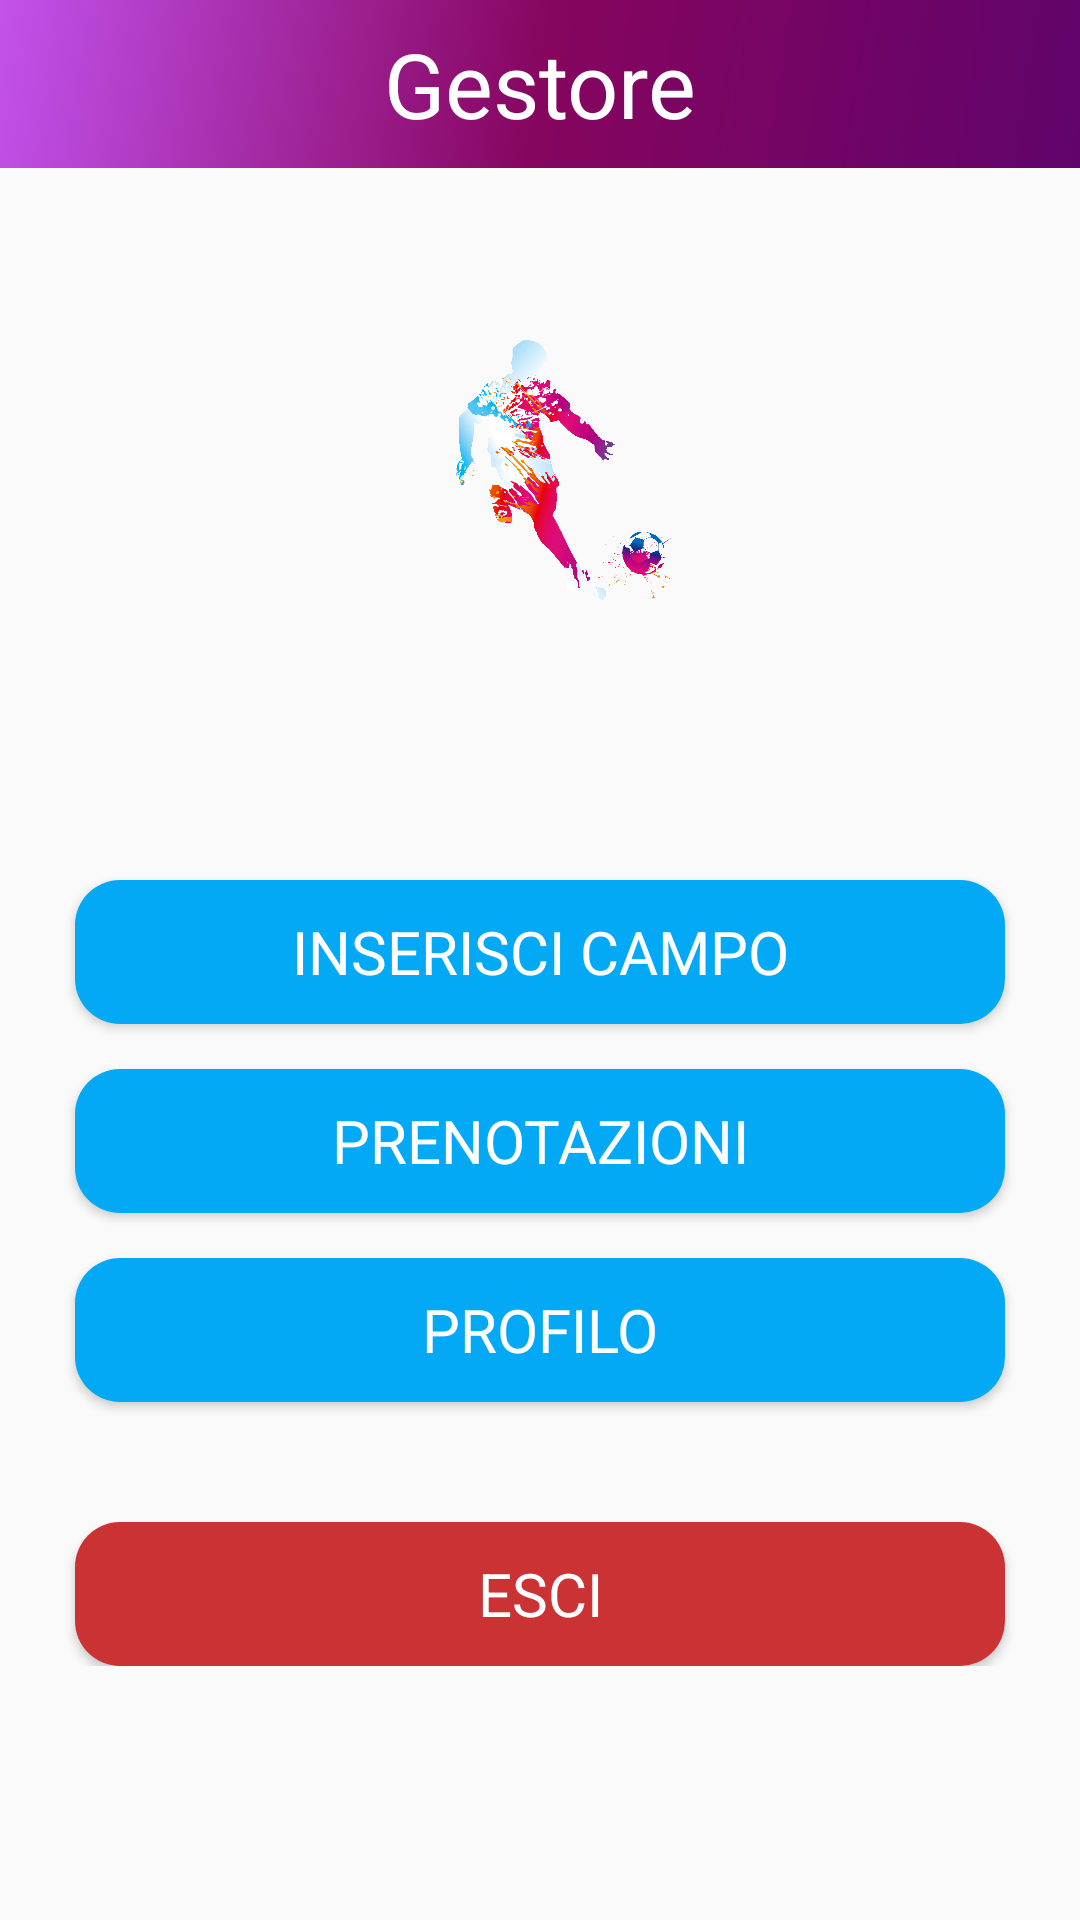

Where icons sit on this 1080 x 1920 app screen, as (x1, y1, x2, y2):
calciatore: (456, 340, 671, 600)
